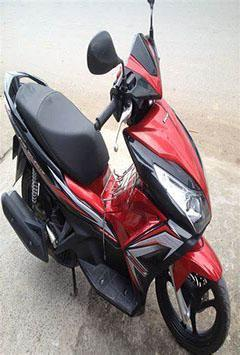motorcycle: (0, 4, 238, 348)
